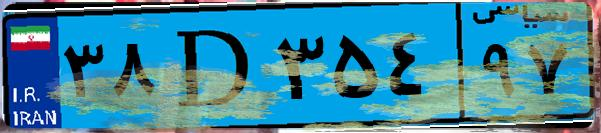3: (270, 28, 330, 110), (57, 26, 110, 100)
4: (385, 28, 445, 110)
5: (330, 28, 385, 110)
7: (525, 38, 570, 115)
8: (110, 28, 158, 98)
9: (475, 38, 525, 113)
D: (158, 12, 270, 120)
